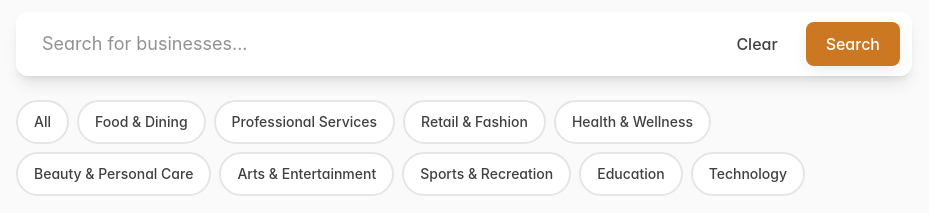
Scenario: SearchBar › clears search on clear button click
The width and height of the screenshot is (929, 213).
Type "test" into the field with placeholder "Search for businesses...".
click(464, 44); type("test")  # box [16, 12, 912, 76]
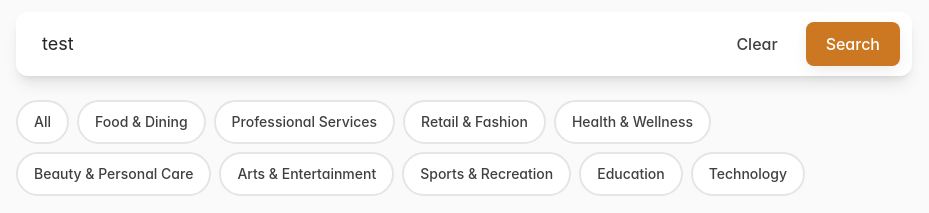
Click the button "Clear".
click(757, 44)  # box [716, 22, 798, 66]
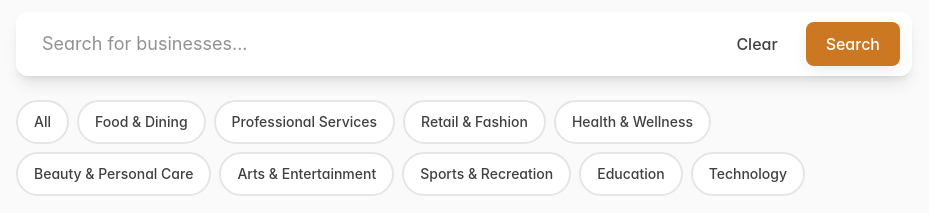
Now the field with placeholder "Search for businesses..." is empty, box [16, 12, 912, 76]
